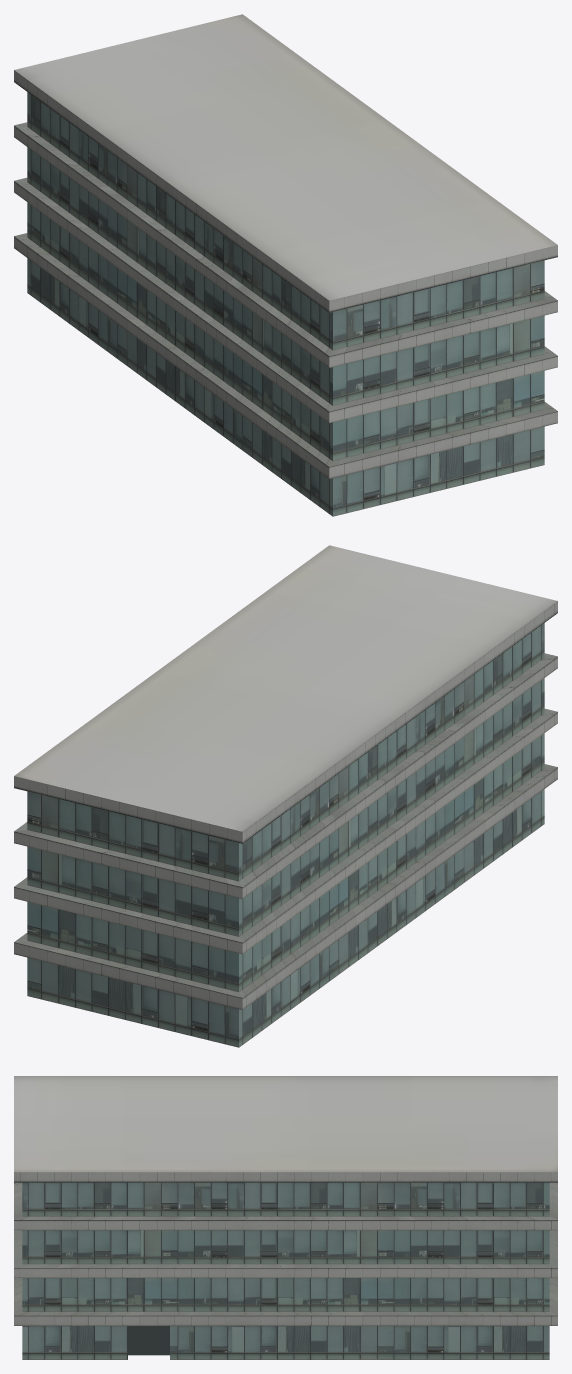
The model's file is strip_office.glb.
The picture shows the model from 3 angles, top to bottom: view 1: azimuth 30°, elevation 25°; view 2: azimuth 150°, elevation 25°; view 3: azimuth 270°, elevation 25°; orthographic projection. The views are drawn at different scales.
Visible parts, largest first — view 1: strip_office; view 2: strip_office; view 3: strip_office.
Boxes of the visible parts, x1=… form: strip_office: x1=14, y1=14, x2=557, y2=516; strip_office: x1=14, y1=545, x2=557, y2=1047; strip_office: x1=14, y1=1076, x2=557, y2=1359.
Bounding box in the file's own units: 15.12 × 14 × 36.12.
Materials: 1 (1 with a texture image).
